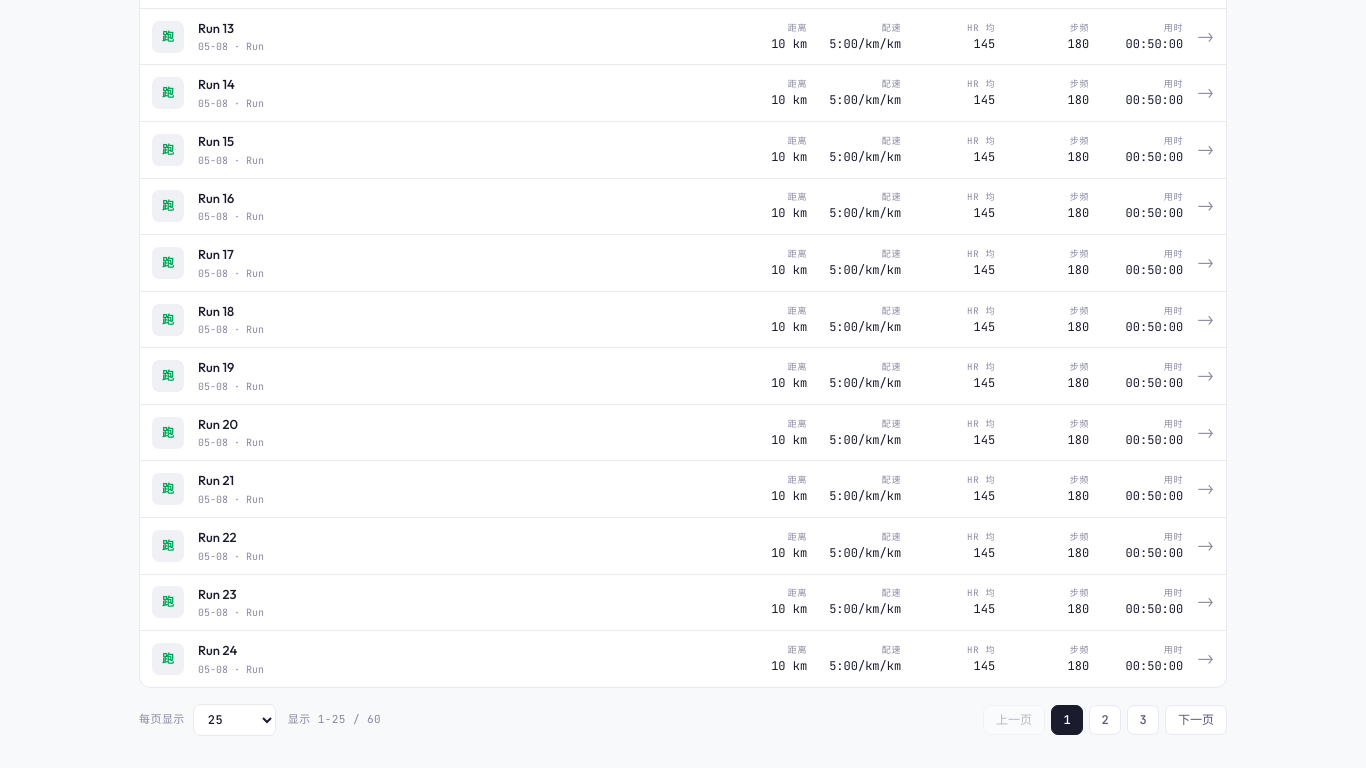
Test: ActivitiesPage › lets users change rows per page and requests the new server limit
(page scrolled)
Select "50" in the dropdown labelled "每页显示". click: (234, 720)
box: [193,704,276,736]
(page scrolled)
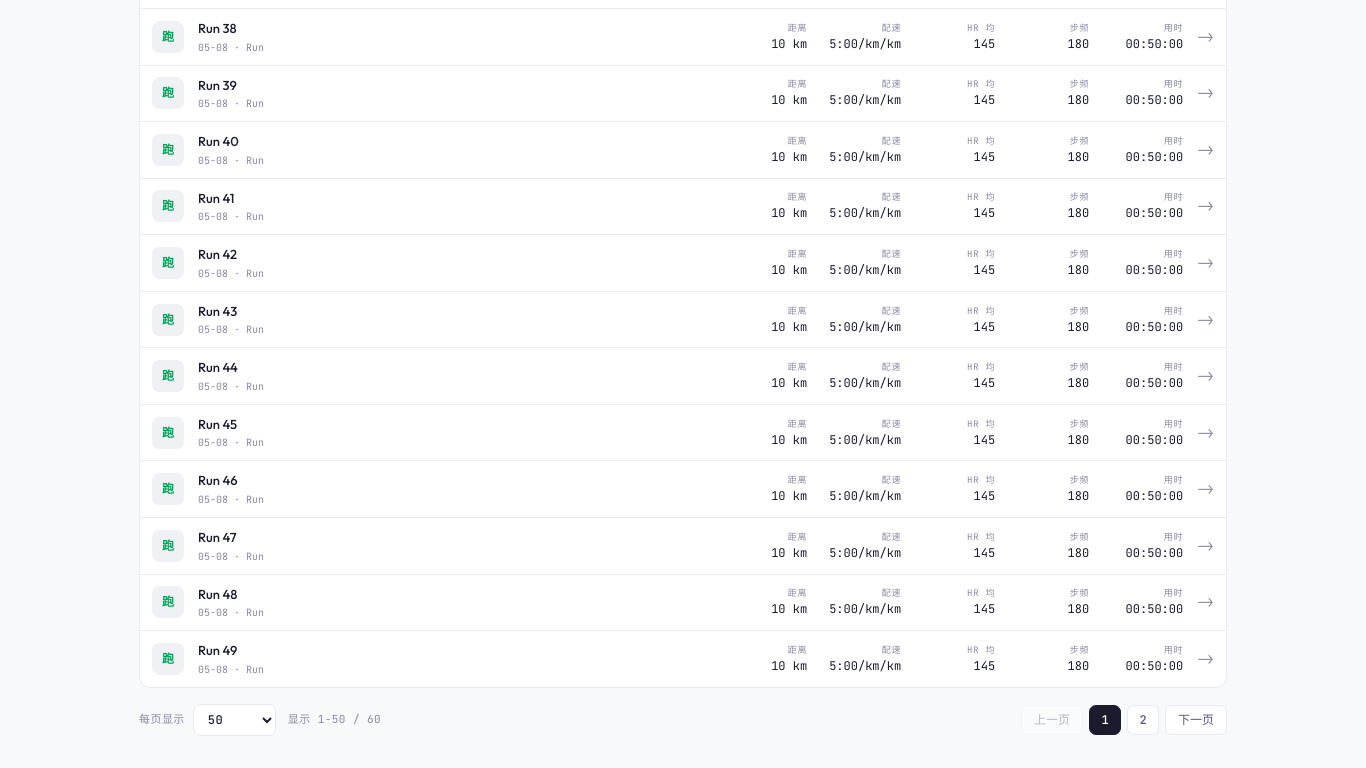
Now the text "显示 1-50 / 60" is shown, box [288,712,381,728]
